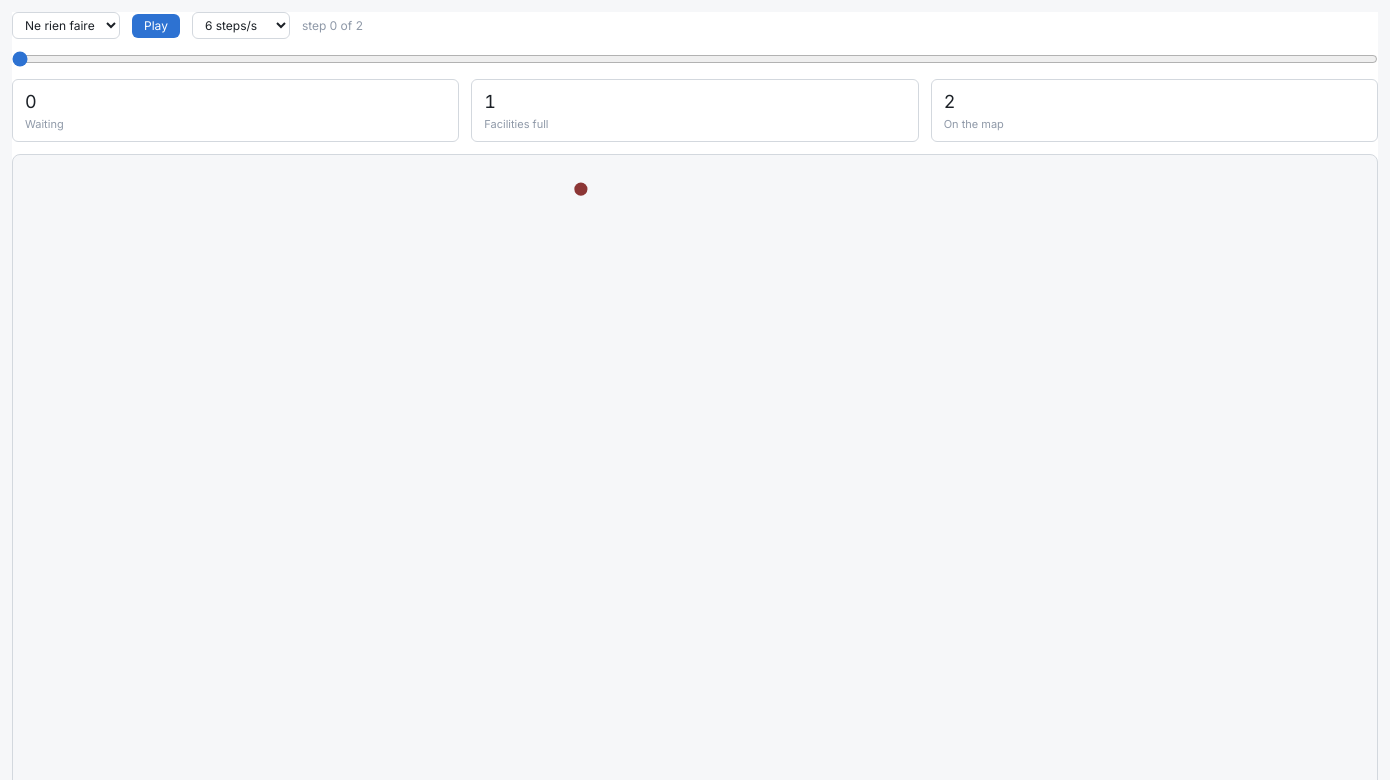
what the player says at a step › moves when the slider moves
Set the slider named "Time step" to "1": (695, 59) [12, 51, 1378, 67]
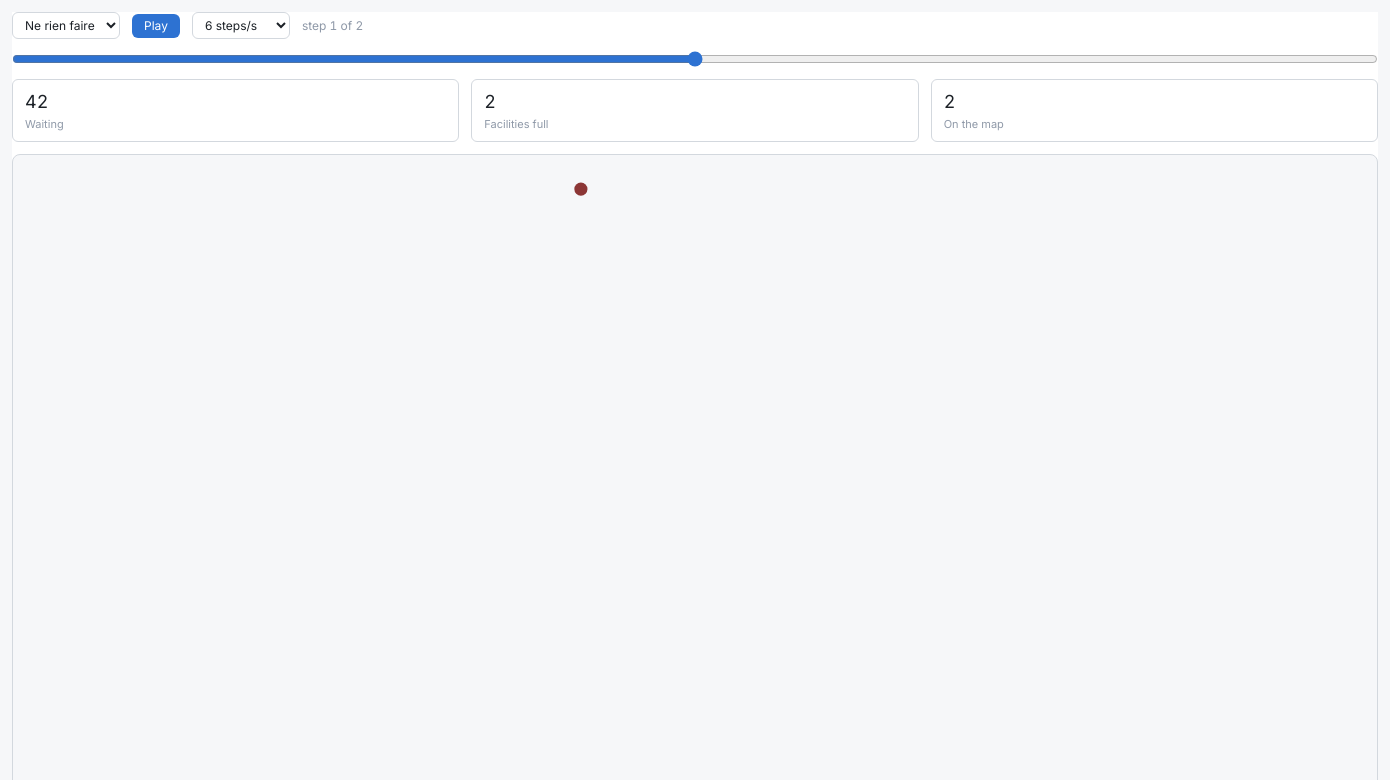
Result: the text "step 1 of 2" is shown at [302, 18, 363, 34]
Result: the text "42" is shown at [25, 91, 48, 112]
